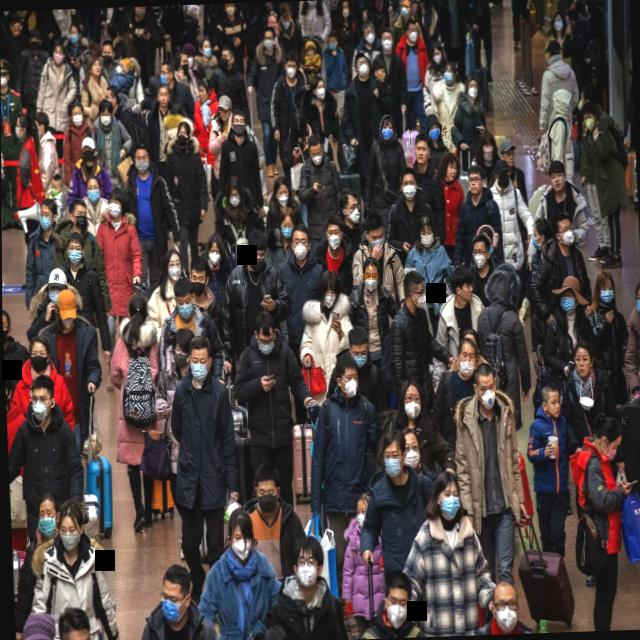Mask: (154, 556, 197, 626), (376, 566, 420, 630), (52, 490, 92, 557), (22, 369, 62, 432), (219, 503, 258, 566), (586, 408, 630, 463), (287, 531, 327, 591), (484, 576, 523, 634), (428, 467, 467, 524), (249, 456, 286, 515), (31, 485, 63, 544), (184, 330, 219, 383), (330, 349, 365, 401), (55, 598, 98, 640), (248, 306, 282, 359), (468, 358, 502, 409), (379, 424, 409, 478), (314, 264, 346, 314), (168, 324, 199, 372), (399, 266, 431, 312), (26, 328, 55, 378), (344, 322, 374, 370), (396, 375, 428, 420), (242, 224, 270, 274), (553, 274, 585, 316), (170, 274, 198, 322), (55, 286, 84, 332), (455, 335, 484, 380), (397, 424, 425, 470), (362, 208, 389, 254), (186, 250, 213, 296), (359, 251, 387, 295), (350, 487, 377, 532), (287, 218, 314, 262), (157, 242, 184, 282), (44, 265, 69, 308), (336, 187, 363, 226), (414, 210, 439, 250), (106, 184, 132, 222), (203, 229, 228, 268), (322, 212, 346, 252), (469, 232, 494, 270), (594, 268, 618, 306), (552, 208, 576, 246), (35, 196, 59, 234), (63, 229, 87, 267), (396, 165, 420, 202), (66, 196, 90, 231), (529, 216, 551, 254), (276, 204, 298, 242), (225, 172, 246, 210), (271, 172, 292, 208), (305, 132, 326, 167), (131, 139, 152, 174), (492, 156, 513, 190), (13, 108, 35, 140), (84, 172, 105, 205), (425, 110, 446, 142), (32, 108, 51, 142), (174, 118, 194, 150), (576, 83, 597, 113), (376, 112, 396, 143), (229, 106, 248, 138), (49, 36, 69, 66), (79, 134, 99, 164), (580, 101, 599, 132), (477, 130, 496, 160), (97, 98, 116, 128), (2, 305, 15, 348), (441, 58, 460, 87), (99, 36, 117, 66), (309, 74, 328, 102), (68, 100, 87, 128), (352, 50, 370, 79), (219, 42, 237, 71), (180, 41, 198, 69), (158, 58, 176, 86), (0, 55, 14, 91), (379, 24, 396, 53), (282, 51, 299, 80), (261, 23, 278, 52), (28, 26, 46, 53), (173, 48, 190, 76), (464, 74, 482, 100), (429, 38, 445, 66), (279, 2, 295, 30), (360, 18, 377, 44), (68, 19, 84, 46), (404, 18, 420, 44), (49, 171, 65, 195), (199, 34, 214, 59), (115, 56, 132, 78), (326, 29, 341, 52), (398, 0, 414, 21), (632, 276, 640, 317), (132, 5, 148, 24), (336, 0, 351, 20), (222, 3, 239, 20), (303, 37, 318, 55)
NO-Mask: (571, 338, 596, 379), (539, 380, 562, 420), (545, 158, 567, 194), (413, 130, 432, 168), (440, 152, 462, 184), (465, 163, 486, 196), (498, 136, 517, 168), (215, 91, 234, 122), (196, 75, 213, 104), (372, 56, 389, 84), (8, 13, 24, 40), (155, 84, 172, 108), (86, 54, 101, 76)
